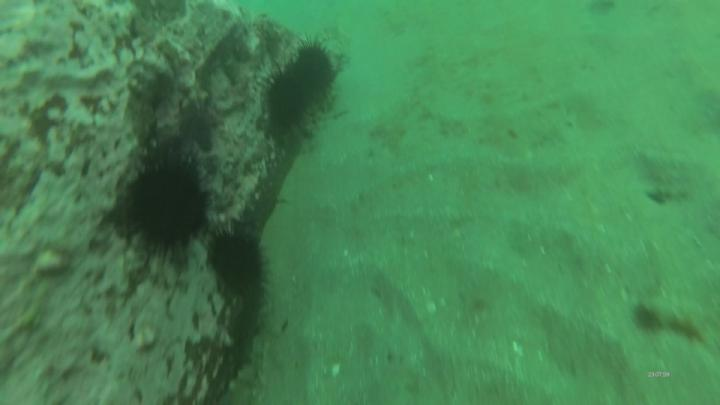echinus: (118, 152, 210, 253), (204, 232, 272, 309), (264, 73, 317, 132), (291, 42, 340, 102)
